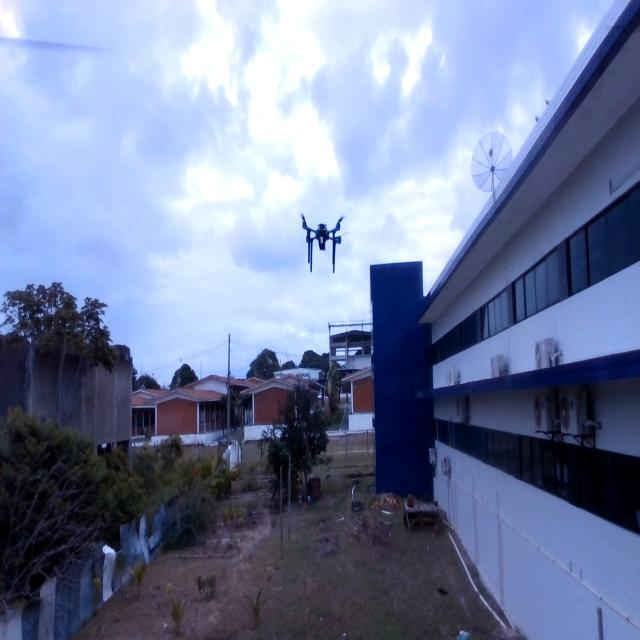-uav-: (293, 204, 349, 284)
